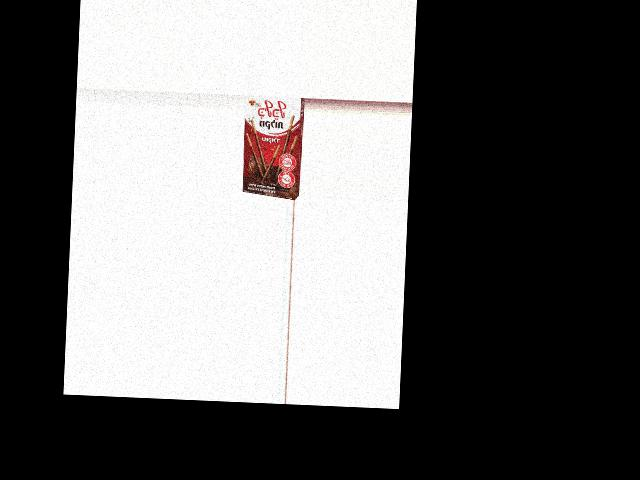chocolate: (240, 95, 303, 193)
